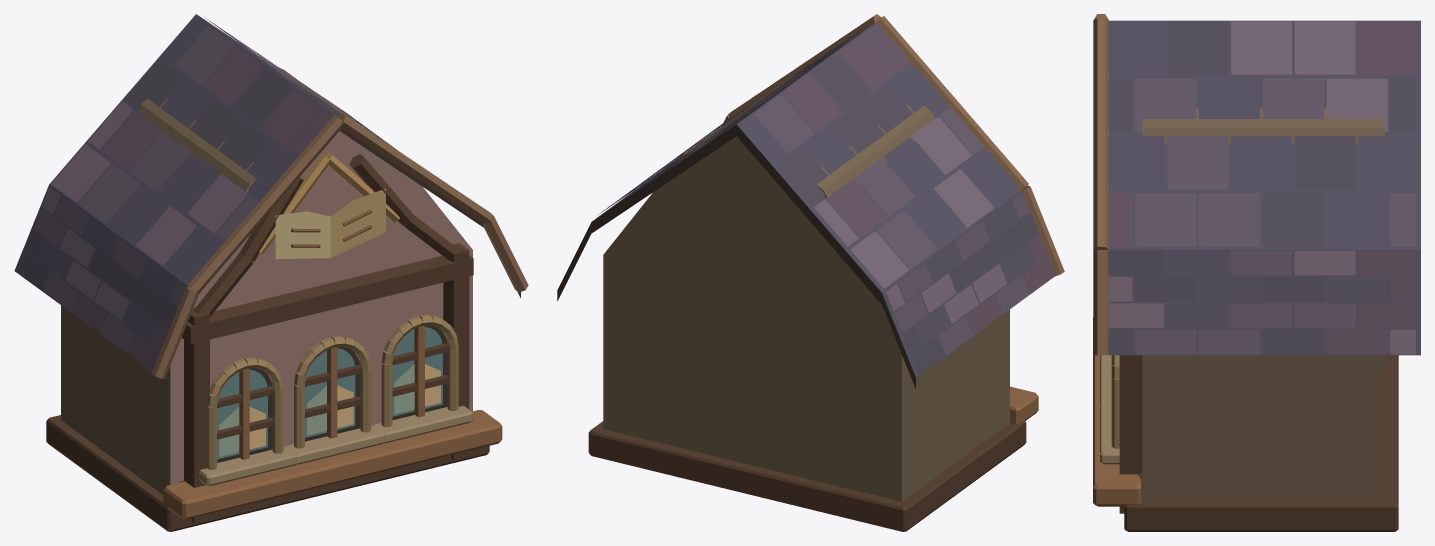
File: gable_stationer.glb
3 renders of one model, left to right at view 1: azimuth 30°, elevation 25°; view 2: azimuth 150°, elevation 25°; view 3: azimuth 270°, elevation 25°, orthographic. The views are drawn at different scales.
Visible parts, largest first — view 1: gable_stationer; view 2: gable_stationer; view 3: gable_stationer.
Boxes of the visible parts, x1,y1,x2,y2 form: gable_stationer: (14,14,528,531); gable_stationer: (557,14,1064,531); gable_stationer: (1093,14,1420,531).
Bounding box in the file's own units: 1.73 × 1.71 × 1.18.
